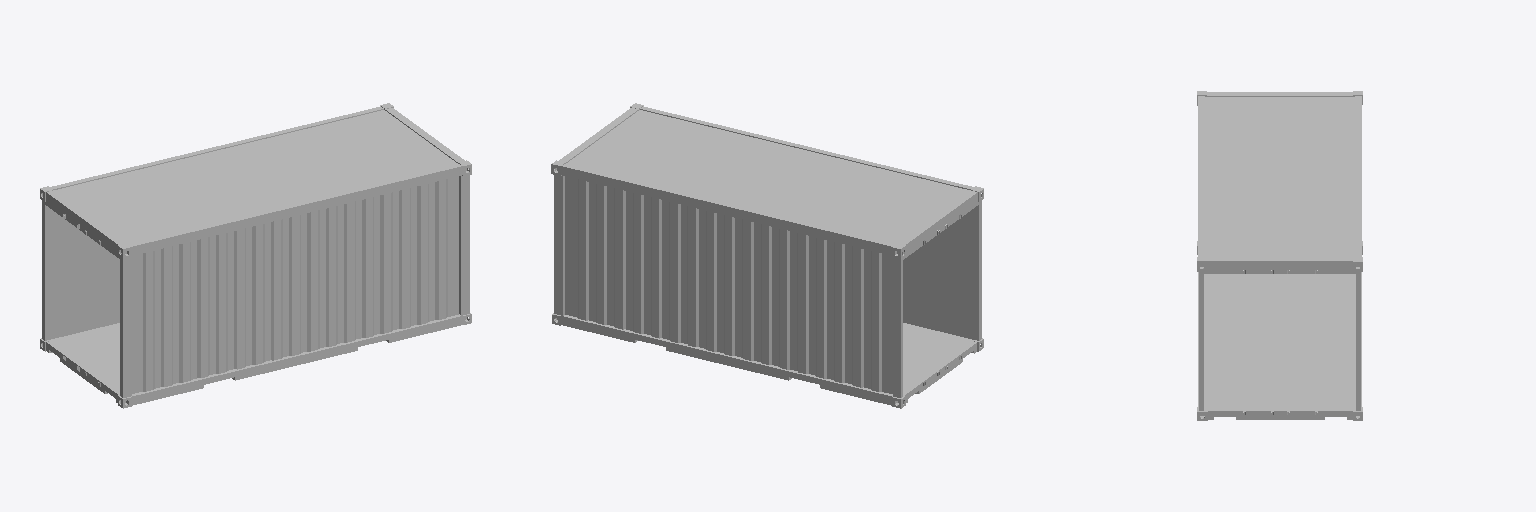
The model's file is Container20-4DoorsShell.obj.
3 views of the same model, side by side, from view 1: azimuth 30°, elevation 25°; view 2: azimuth 150°, elevation 25°; view 3: azimuth 270°, elevation 25° (orthographic).
Parts seen in each view (by area): view 1: SideRight, TopPanel, MainFrame, SideLeft, BottomPanel, Corners; view 2: SideLeft, TopPanel, MainFrame, SideRight, BottomPanel, Corners; view 3: TopPanel, BottomPanel, MainFrame, Corners, SideRight, SideLeft.
Part boxes in pixels (x1,y1,x2,y2): SideRight: (120, 175, 469, 397); TopPanel: (54, 110, 457, 243); MainFrame: (45, 106, 466, 405); SideLeft: (42, 201, 119, 340); BottomPanel: (53, 323, 119, 387); Corners: (40, 103, 471, 408); SideLeft: (554, 175, 902, 397); TopPanel: (566, 110, 969, 243); MainFrame: (557, 106, 978, 405); SideRight: (903, 201, 981, 340); BottomPanel: (903, 323, 970, 388); Corners: (551, 103, 983, 408); TopPanel: (1205, 97, 1354, 257); BottomPanel: (1205, 274, 1355, 406); MainFrame: (1198, 92, 1361, 419); Corners: (1197, 91, 1362, 420); SideRight: (1199, 272, 1203, 410); SideLeft: (1356, 272, 1360, 410).
Bounding box in the file's own units: 603 × 263 × 249.